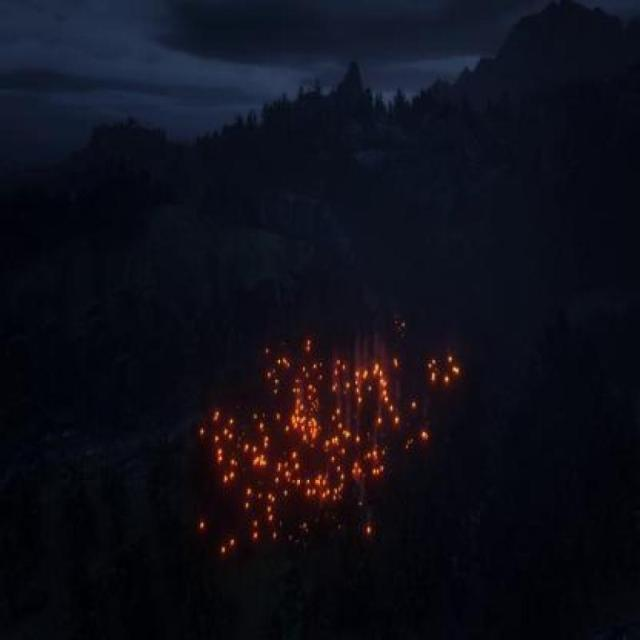Fire: (185, 329, 495, 594)
